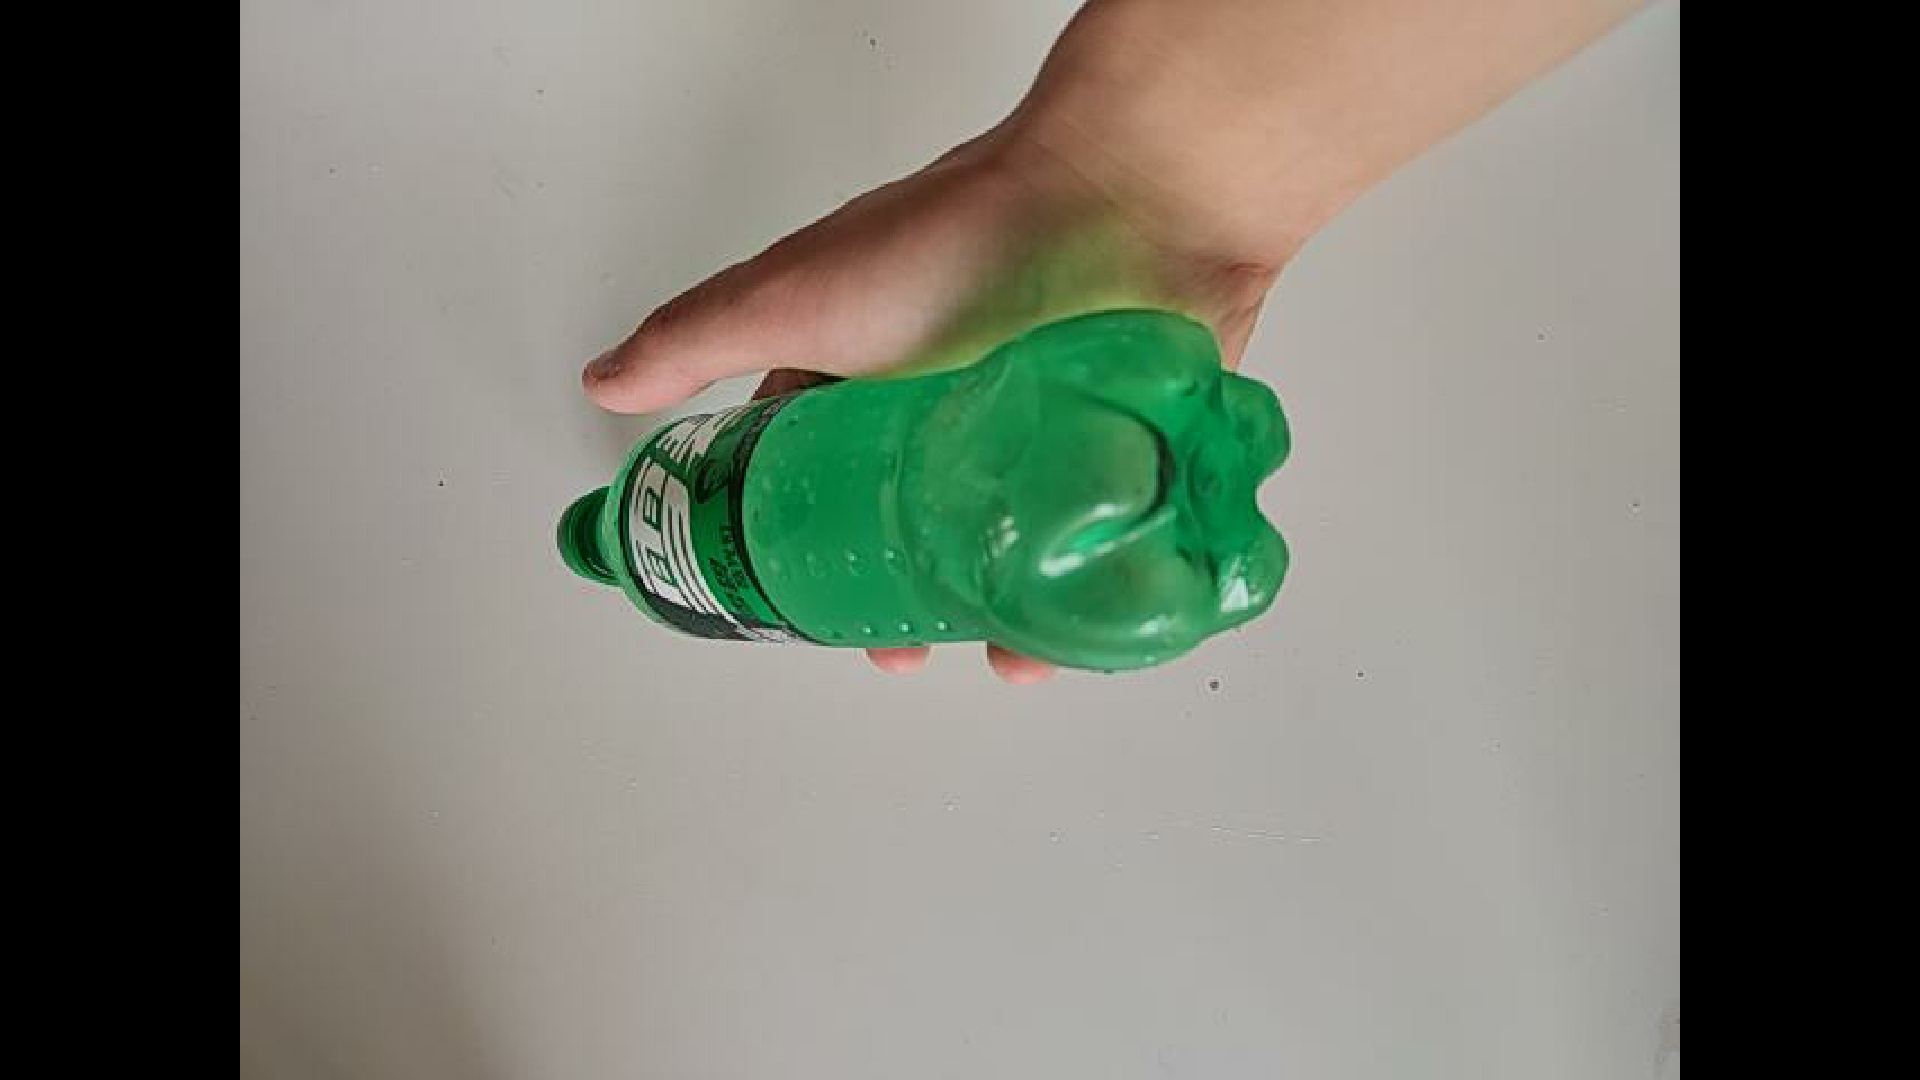sprite: (555, 306, 1292, 673)
